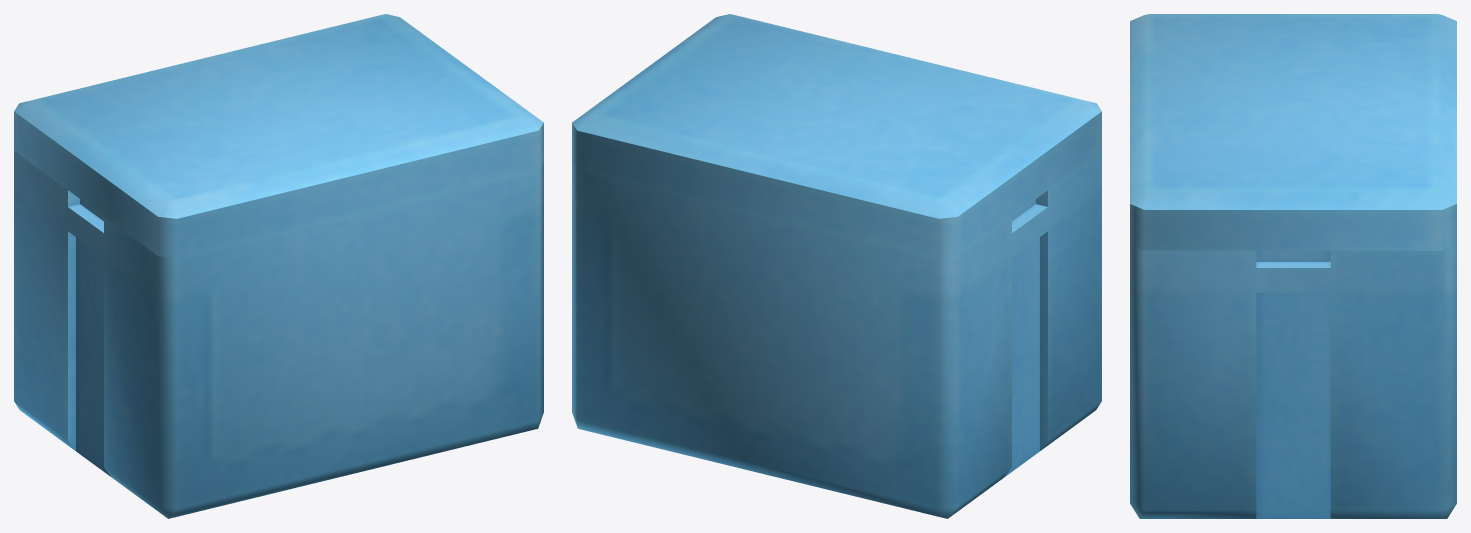
File: jsf_StyreneFoamBox_03.fbx
3 views of the same model, side by side, from view 1: azimuth 30°, elevation 25°; view 2: azimuth 150°, elevation 25°; view 3: azimuth 270°, elevation 25° (orthographic). The views are drawn at different scales.
Visible parts, largest first — view 1: Body, Lid; view 2: Body, Lid; view 3: Body, Lid.
Boxes of the visible parts, x1,y1,x2,y2 form: Body: (14,151,543,518); Lid: (14,14,543,257); Body: (572,151,1101,518); Lid: (572,14,1101,257); Body: (1130,244,1456,518); Lid: (1130,14,1456,250).
Size of the model in its own units: 48 by 37 by 34.
